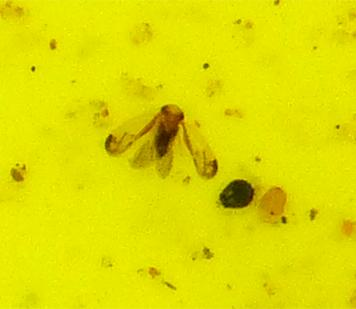Coleoptera: (217, 176, 256, 209)
Hemiptera: (100, 100, 225, 182)
